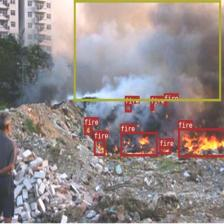fire: (177, 127, 224, 156), (120, 132, 158, 156), (93, 138, 105, 156), (160, 146, 170, 154), (84, 125, 92, 134), (125, 104, 131, 111), (150, 104, 154, 110), (164, 101, 167, 105)
smoke: (73, 0, 220, 100)
